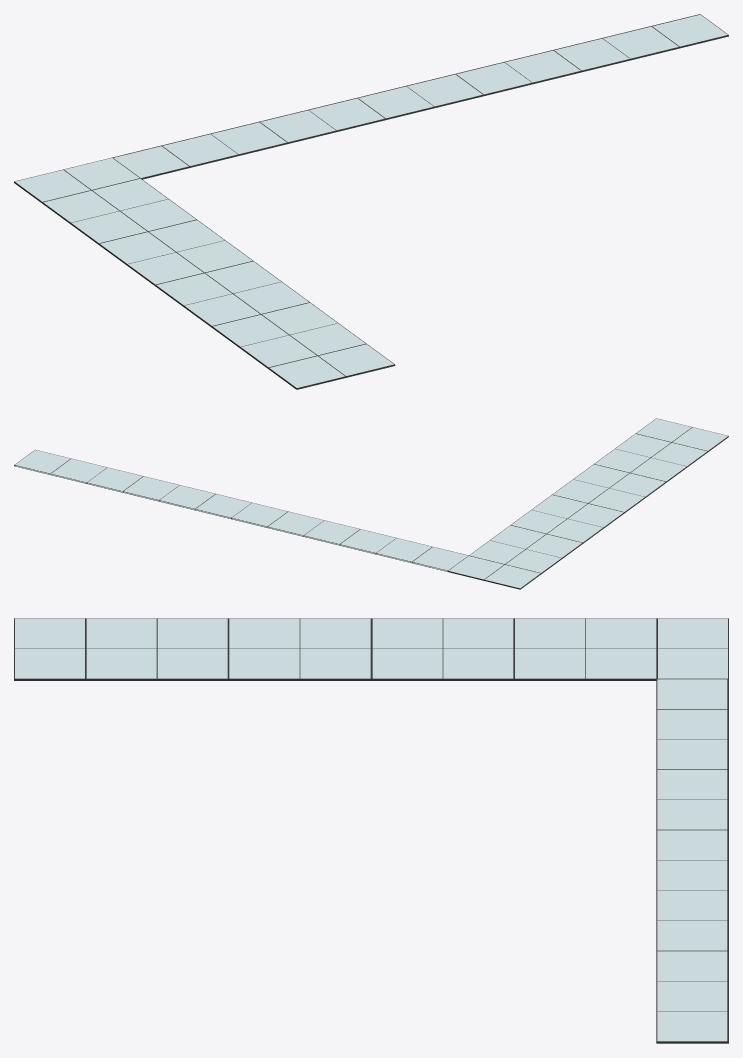
File: sidewalk_4_assembled.fbx
3 views of the same model, one above another, from view 1: azimuth 30°, elevation 25°; view 2: azimuth 150°, elevation 25°; view 3: azimuth 270°, elevation 25° (orthographic). The views are drawn at different scales.
Visible parts, largest first — view 1: Plane.096; view 2: Plane.096; view 3: Plane.096.
Boxes of the visible parts, left/top/right/bottom form: Plane.096: left=14, top=14, right=728, bottom=389; Plane.096: left=14, top=418, right=728, bottom=589; Plane.096: left=14, top=618, right=728, bottom=1043.
Bounding box in the file's own units: 13.95 × 0.0277 × 9.96.
1 material, 1 textured.
